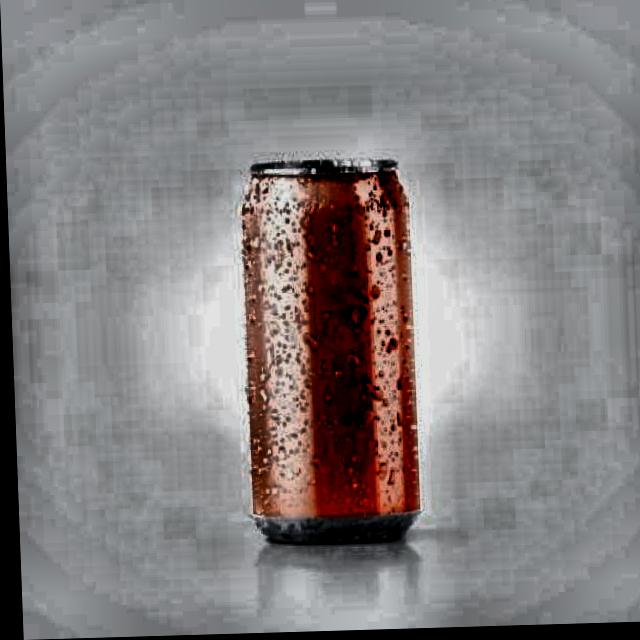can: (230, 150, 429, 556)
